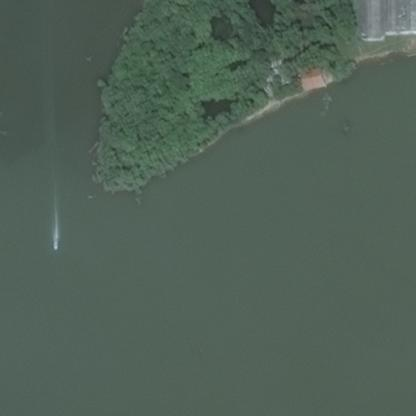ship: (52, 246, 57, 250)
